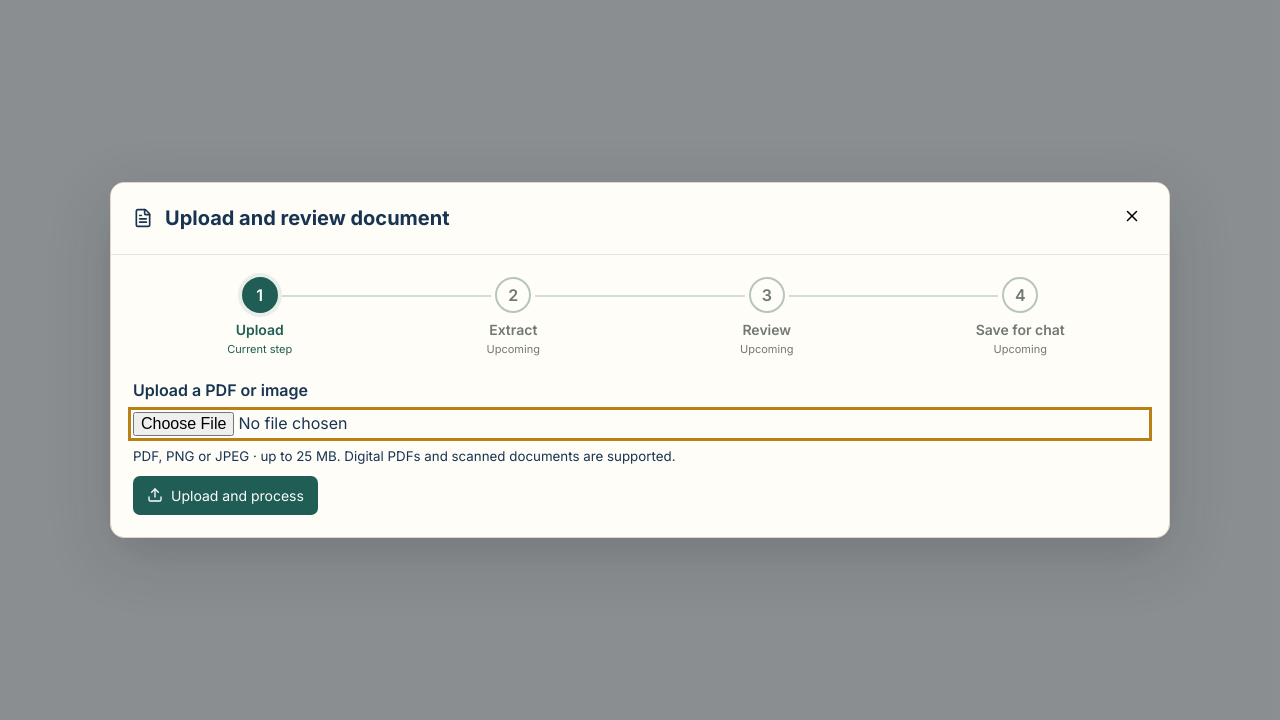
Test: requires confirmation during extraction and opens a fresh upload after closing
Earlier steps of the test are not shown.
Later steps or results of the test are not shown.
Click the button "Upload and process" at (225, 495), box [133, 476, 318, 515]
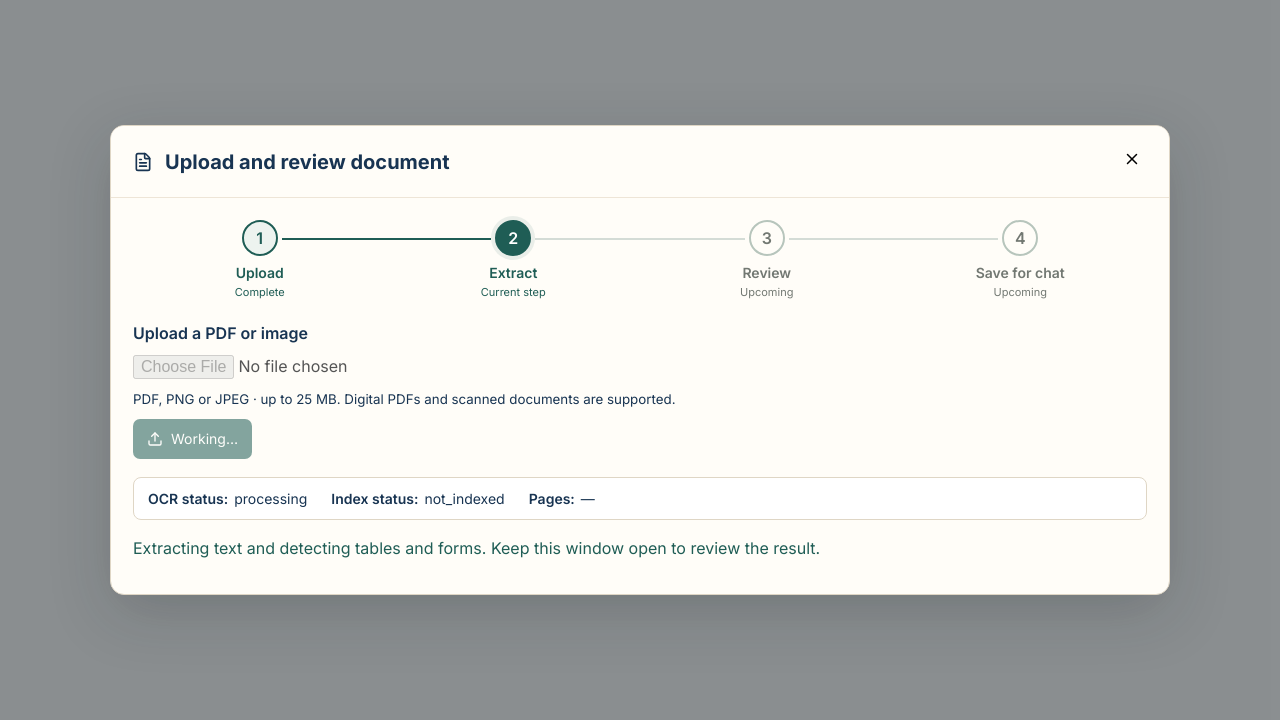
Click the button named "Close OCR document workflow" at (1132, 162), box [1117, 144, 1147, 179]
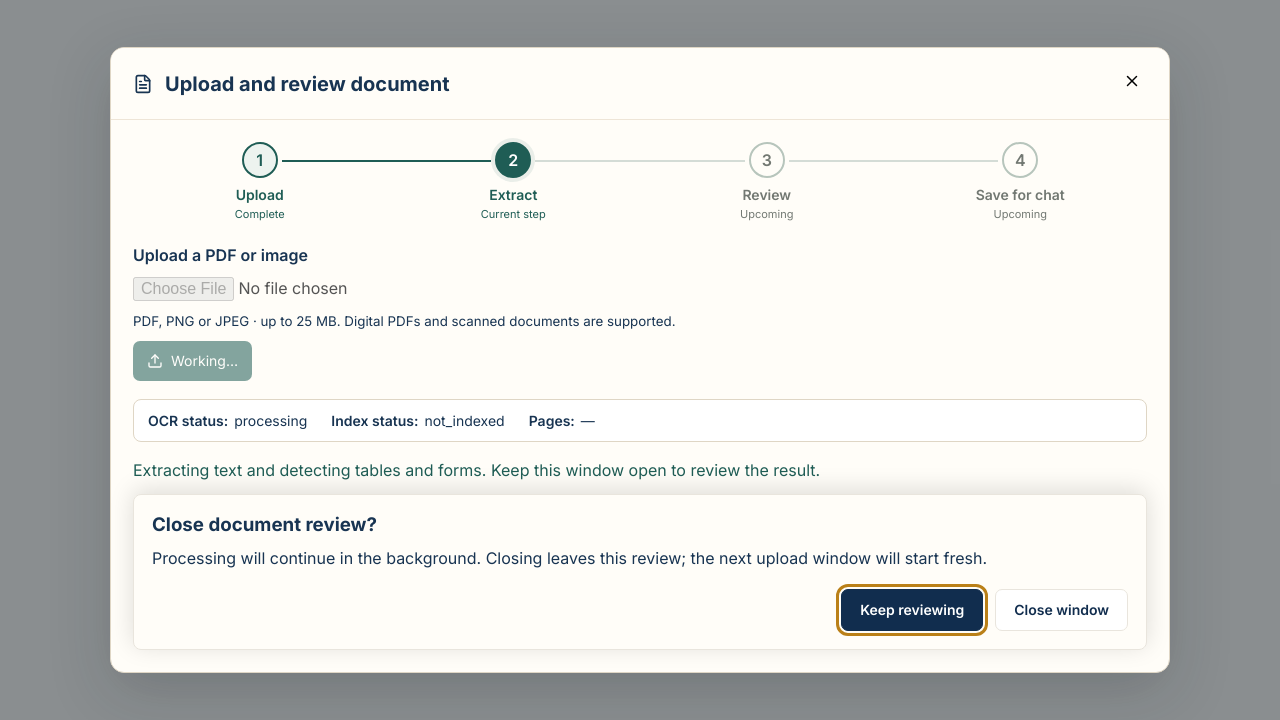
Result: the dialog is shown at [133, 494, 1147, 650]
